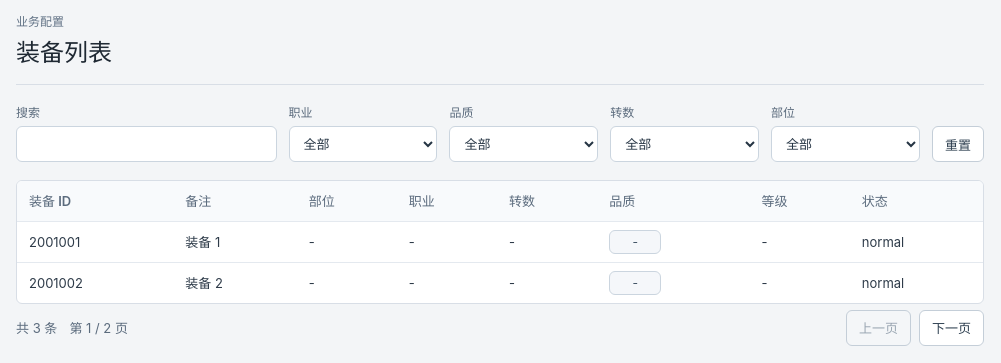
EquipListPage › keeps page size stable while paging through results
Expected: the text "第 1 / 2 页" is shown, [69, 318, 128, 337]
Expected: the cell "2001001" is shown, [17, 221, 173, 262]
Click the button "下一页" at (952, 328), box [919, 310, 984, 346]
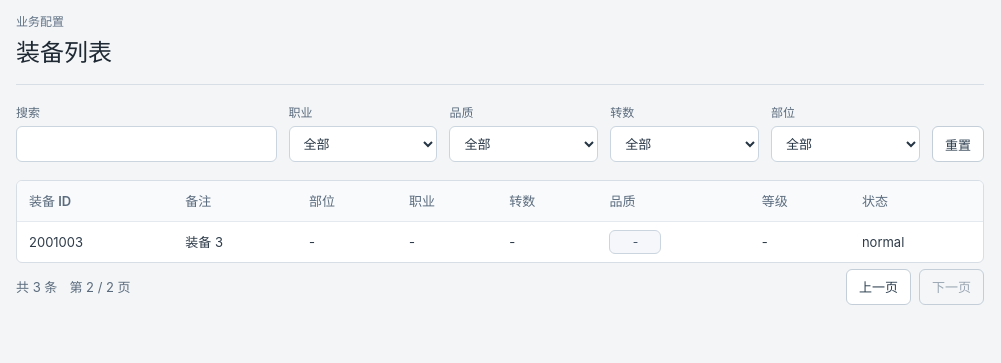
Result: the text "第 2 / 2 页" is shown at [69, 277, 131, 296]
Result: the cell "2001001" is gone
Result: the cell "2001003" is shown at [17, 221, 173, 262]
